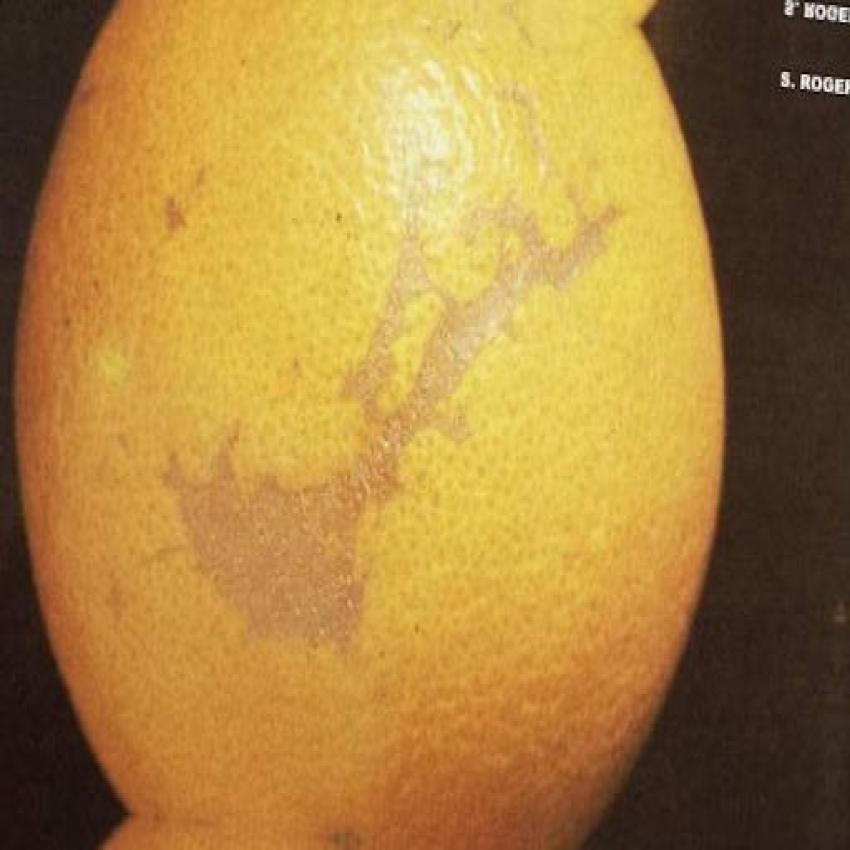Mal estado: (11, 1, 741, 842)
